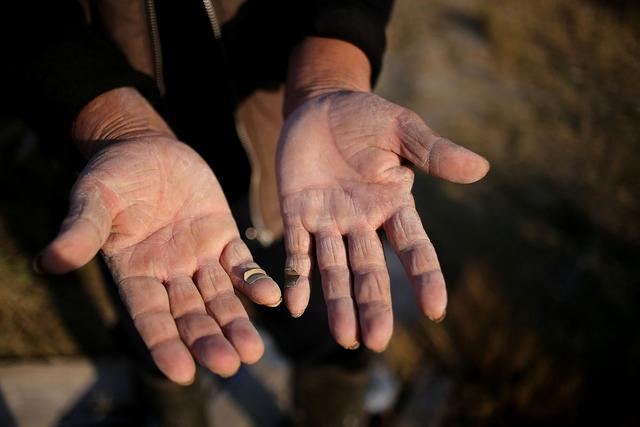no-phone: (40, 130, 283, 389), (275, 88, 495, 355)
